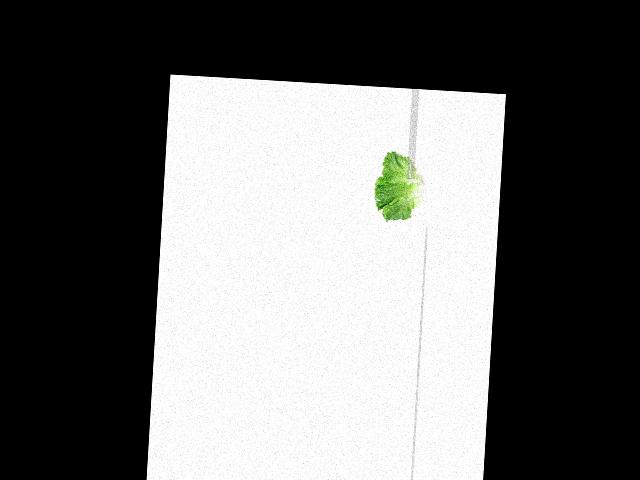lettuce: (373, 153, 428, 223)
